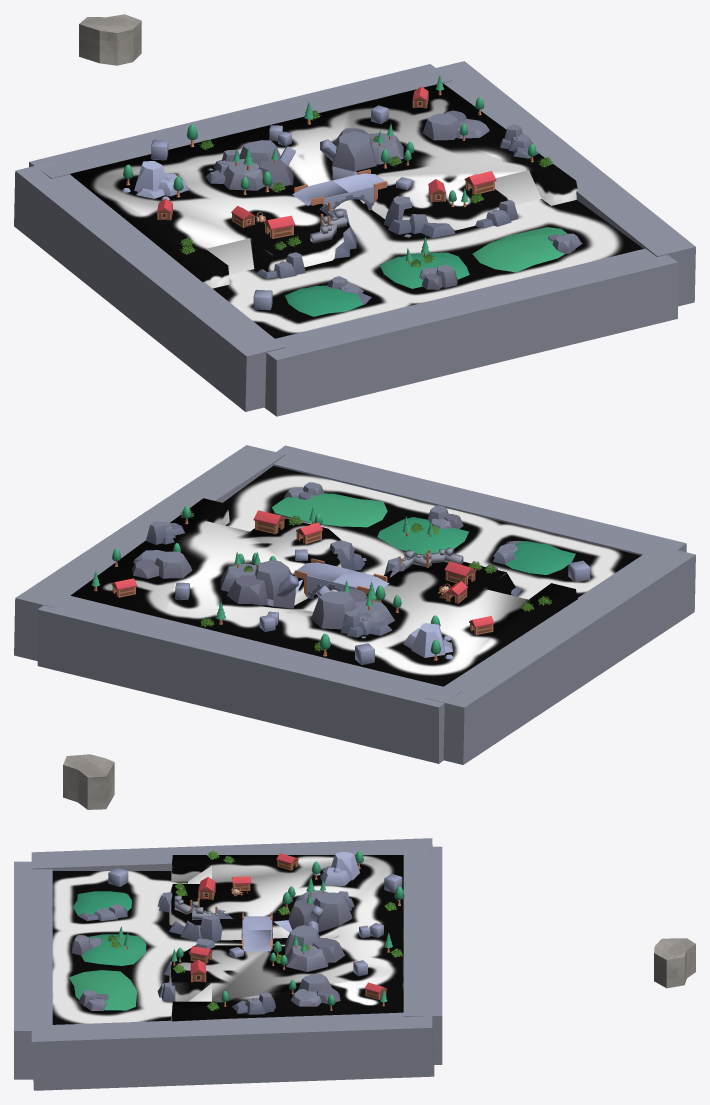
File: kaukaz.glb
3 views of the same model, one above another, from view 1: azimuth 30°, elevation 25°; view 2: azimuth 150°, elevation 25°; view 3: azimuth 270°, elevation 25° (orthographic). The views are drawn at different scales.
Parts seen in each view (by area): view 1: walls, Plane.003, Cube.017, Cube.048, rocks.005, rocks.006, wall-arch-top-detail, Cube.049, Cube.029, rock-c.005, rocks.007, rock-small (+6 smaller); view 2: walls, Plane.003, Cube.048, rocks.005, Cube.017, rocks.006, Cube.049, wall-arch-top-detail, Cube.029, rocks.007, rock-small, rock-c.004 (+4 smaller); view 3: walls, Plane.003, rocks.005, Cube.017, Cube.048, rocks.006, Cube.049, wall-arch-top-detail, rocks.007, Cube.029, rock-small, rock-c.006 (+4 smaller).
Part boxes in pixels (x1=…): walls: x1=14, y1=61, x2=695, y2=416; Plane.003: x1=70, y1=83, x2=643, y2=338; Cube.017: x1=79, y1=14, x2=141, y2=65; Cube.048: x1=472, y1=227, x2=567, y2=272; rocks.005: x1=332, y1=128, x2=403, y2=179; rocks.006: x1=223, y1=140, x2=293, y2=190; wall-arch-top-detail: x1=292, y1=169, x2=390, y2=210; Cube.049: x1=379, y1=252, x2=469, y2=288; Cube.029: x1=285, y1=285, x2=363, y2=316; rock-c.005: x1=384, y1=196, x2=455, y2=238; rocks.007: x1=422, y1=110, x2=489, y2=140; rock-small: x1=122, y1=161, x2=189, y2=200; walls: x1=14, y1=445, x2=695, y2=764; Plane.003: x1=70, y1=466, x2=640, y2=686; Cube.048: x1=272, y1=493, x2=387, y2=527; rocks.005: x1=220, y1=560, x2=295, y2=608; Cube.017: x1=63, y1=754, x2=114, y2=809; rocks.006: x1=311, y1=588, x2=394, y2=629; Cube.049: x1=377, y1=517, x2=468, y2=554; wall-arch-top-detail: x1=292, y1=558, x2=389, y2=599; Cube.029: x1=505, y1=541, x2=575, y2=574; rocks.007: x1=132, y1=550, x2=192, y2=578; rock-small: x1=403, y1=623, x2=453, y2=659; rock-c.004: x1=341, y1=610, x2=392, y2=638; walls: x1=14, y1=838, x2=442, y2=1090; Plane.003: x1=52, y1=855, x2=403, y2=1024; rocks.005: x1=285, y1=925, x2=344, y2=971; Cube.017: x1=654, y1=938, x2=695, y2=988; Cube.048: x1=69, y1=970, x2=137, y2=1010; rocks.006: x1=288, y1=890, x2=352, y2=931; Cube.049: x1=81, y1=934, x2=146, y2=965; wall-arch-top-detail: x1=241, y1=912, x2=272, y2=951; rocks.007: x1=291, y1=973, x2=340, y2=1006; Cube.029: x1=73, y1=891, x2=131, y2=915; rock-small: x1=313, y1=852, x2=359, y2=885; rock-c.006: x1=169, y1=913, x2=222, y2=942.
Bounding box in the file's own units: 2.88 × 0.6706 × 4.38.
Materials: 18 (17 with a texture image).
